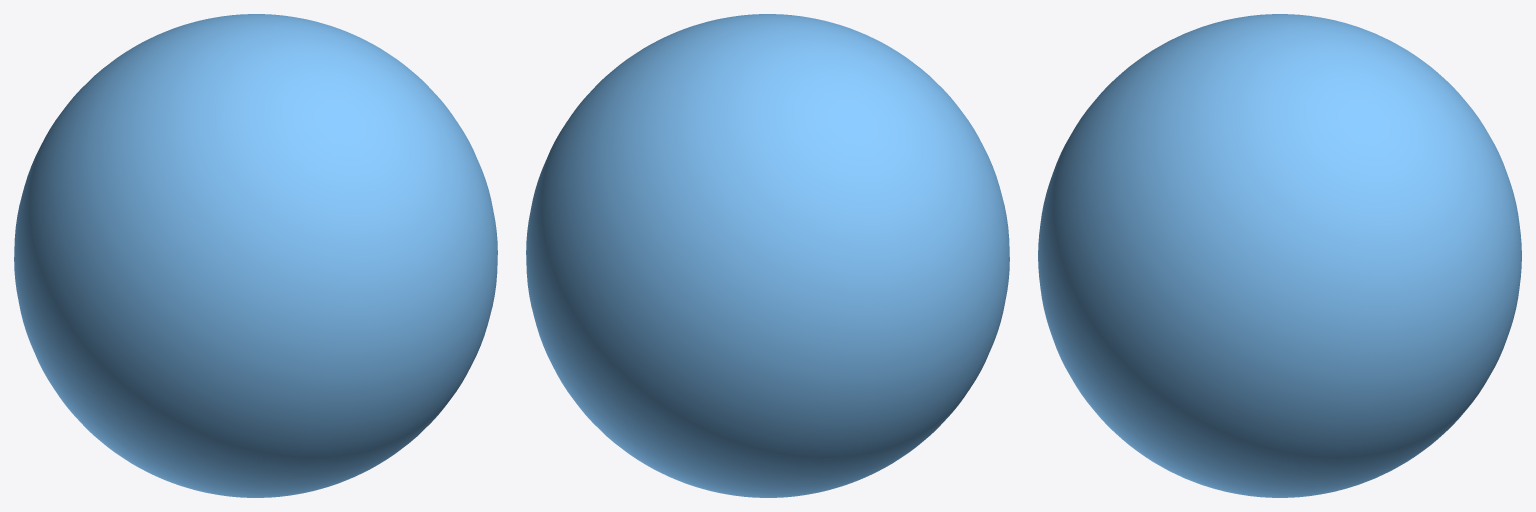
The model's file is earth-model-transformed.glb.
3 views of the same model, side by side, from view 1: azimuth 30°, elevation 25°; view 2: azimuth 150°, elevation 25°; view 3: azimuth 270°, elevation 25° (orthographic).
Visible parts, largest first — view 1: Earth; view 2: Earth; view 3: Earth.
Boxes of the visible parts, x1,y1,x2,y2 form: Earth: (14,14,497,497); Earth: (526,14,1009,497); Earth: (1038,14,1521,497).
Size of the model in its own units: 2.01 by 2.01 by 2.01.
